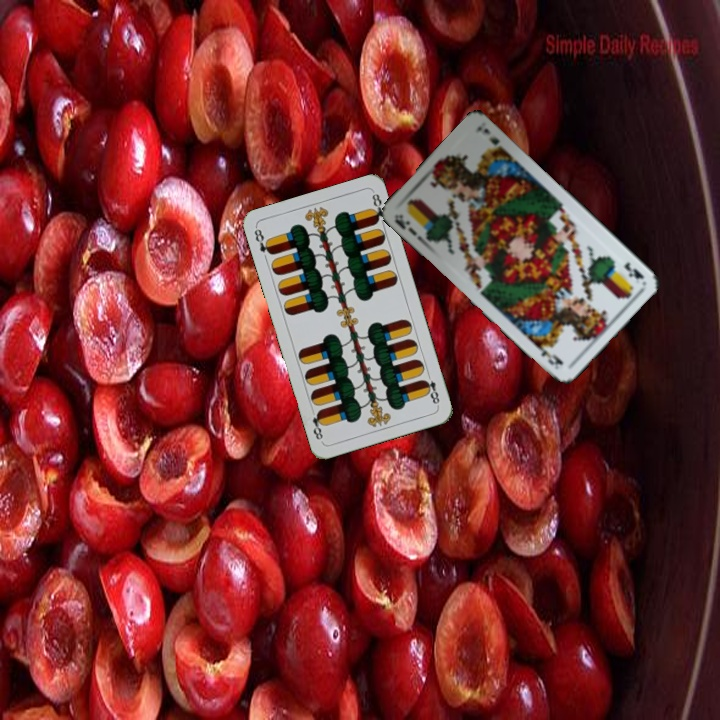E8: (419, 369, 442, 409), (250, 224, 275, 257)
EK: (391, 210, 419, 238), (620, 258, 646, 281)
